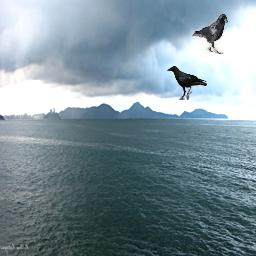Crow: (192, 14, 228, 54), (167, 65, 207, 100)
